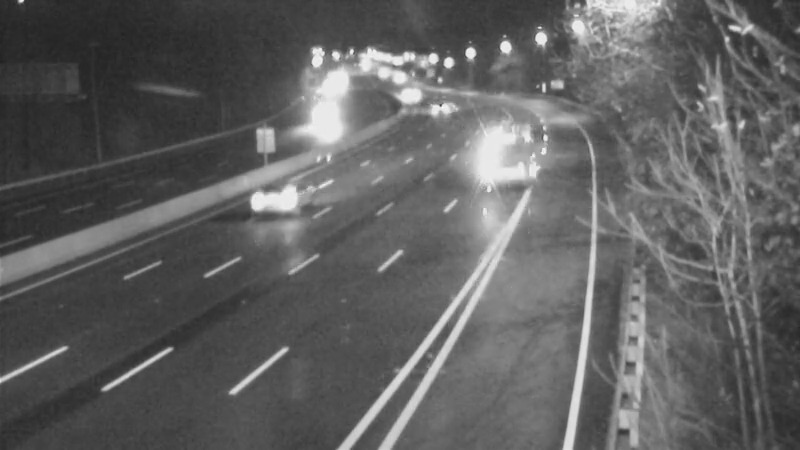vehicle: (243, 156, 323, 236), (380, 69, 430, 119), (418, 82, 468, 132), (480, 119, 530, 169), (301, 89, 351, 139)
